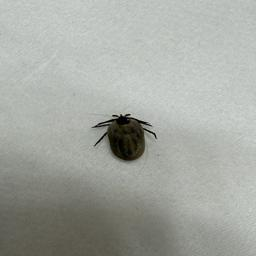Ixodes scapularis: (91, 114, 159, 161)
